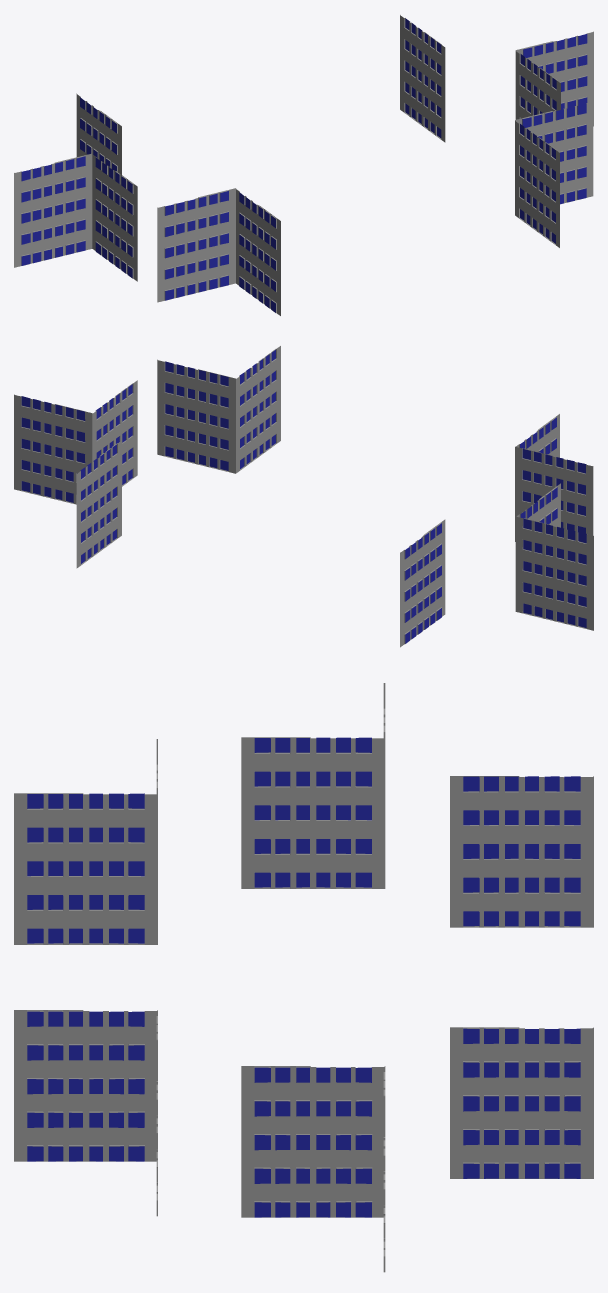
Rendered from outside.fbx.
3 renders of one model, top to bottom at view 1: azimuth 30°, elevation 25°; view 2: azimuth 150°, elevation 25°; view 3: azimuth 270°, elevation 25°, orthographic. The views are drawn at different scales.
Parts seen in each view (by area): view 1: outside.003; view 2: outside.003; view 3: outside.003.
Boxes of the visible parts, x1=… form: outside.003: x1=14, y1=15, x2=593, y2=315; outside.003: x1=14, y1=346, x2=593, y2=647; outside.003: x1=14, y1=683, x2=593, y2=1272.
Size of the model in its own units: 22924 by 3600 by 12475.
